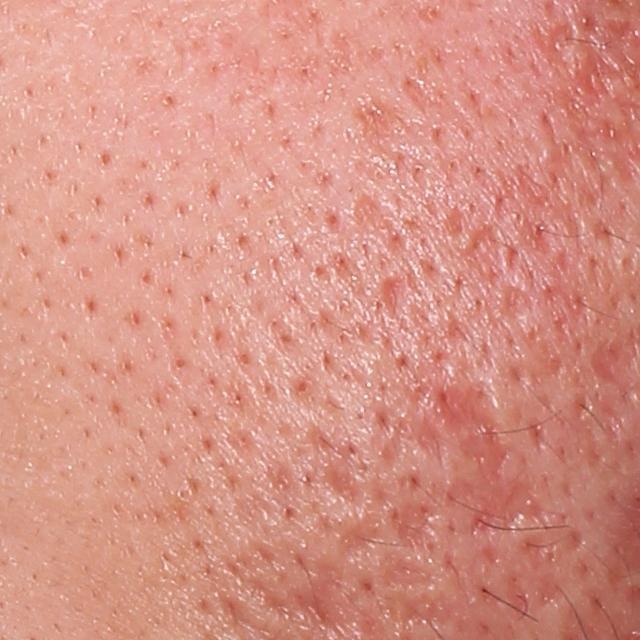atrophic_scar: (430, 377, 518, 485), (471, 482, 561, 540), (261, 585, 367, 631), (377, 594, 478, 635), (351, 89, 401, 153), (391, 500, 445, 553), (335, 517, 386, 555), (318, 460, 359, 507), (379, 555, 435, 586), (543, 20, 578, 67), (378, 273, 408, 323), (418, 415, 444, 469), (520, 532, 555, 572), (528, 571, 560, 610)
